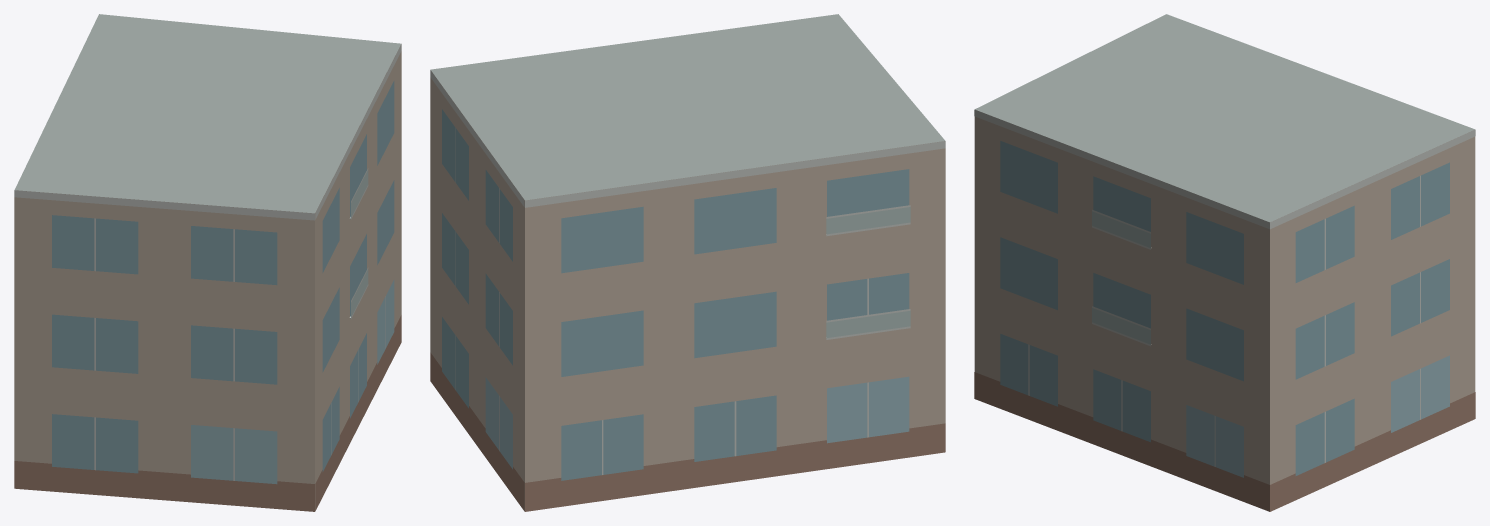
The model's file is survey-upis-32629650.glb.
The picture shows the model from 3 angles, left to right: view 1: azimuth 30°, elevation 25°; view 2: azimuth 150°, elevation 25°; view 3: azimuth 270°, elevation 25°; orthographic projection. The views are drawn at different scales.
Visible parts, largest first — view 1: survey-upis-32629650.tmp; view 2: survey-upis-32629650.tmp; view 3: survey-upis-32629650.tmp.
Part boxes in pixels (x1,y1,x2,y2): survey-upis-32629650.tmp: [14, 14, 401, 511]; survey-upis-32629650.tmp: [430, 14, 945, 511]; survey-upis-32629650.tmp: [974, 14, 1475, 511].
Size of the model in its own units: 15.76 by 10.2 by 16.01.
